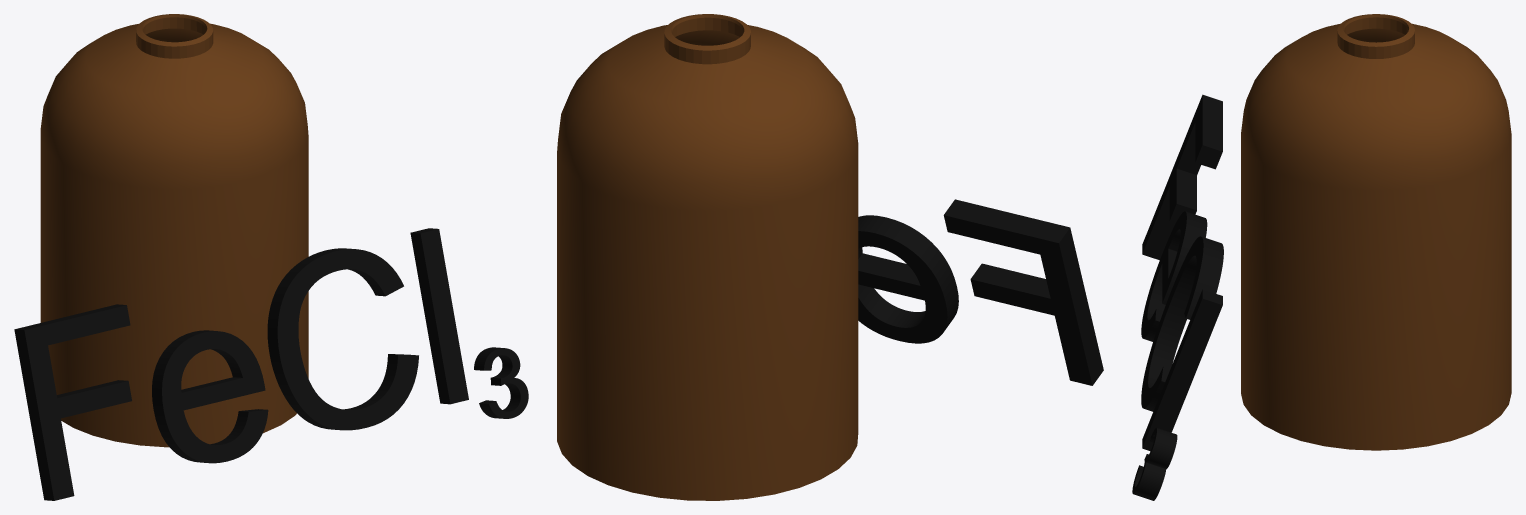
Rendered from fecl3.glb.
3 views of the same model, side by side, from view 1: azimuth 30°, elevation 25°; view 2: azimuth 150°, elevation 25°; view 3: azimuth 270°, elevation 25° (orthographic). The views are drawn at different scales.
Parts seen in each view (by area): view 1: FeCl3; view 2: FeCl3; view 3: FeCl3.
Boxes of the visible parts, x1=… form: FeCl3: x1=14, y1=14, x2=528, y2=500; FeCl3: x1=557, y1=14, x2=1103, y2=500; FeCl3: x1=1132, y1=14, x2=1511, y2=500.
Bounding box in the file's own units: 0.2033 × 0.1488 × 0.1401.
